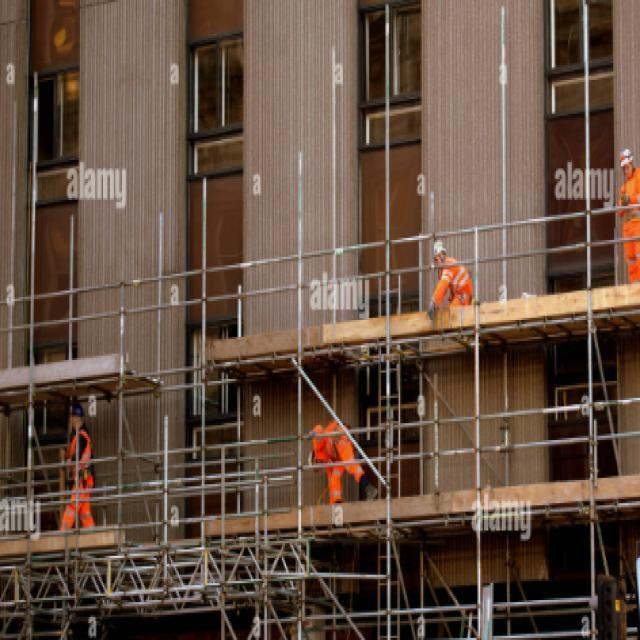boots: (326, 484, 379, 524)
helmet: (619, 148, 635, 180), (431, 239, 447, 268), (69, 402, 84, 432), (307, 451, 319, 472)
vest: (433, 255, 472, 303), (614, 164, 640, 221), (68, 430, 94, 482), (311, 423, 342, 462)
